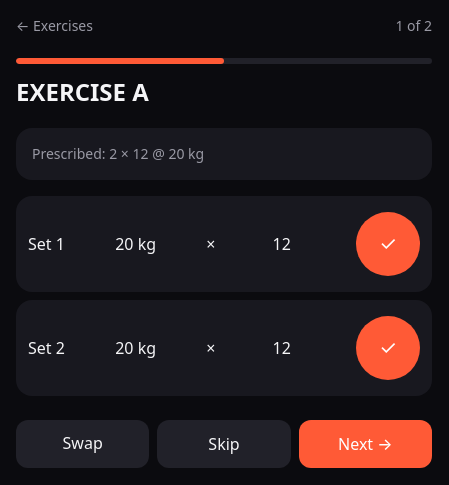
Test: SessionExercise — navigation › Skip logs all pending sets as skipped and advances to the next exercise in list order
The image size is (449, 485).
expect the element with test id "set-row-1" is shown: met, box [16,300,432,396]
Click the button "Skip". click: (224, 444)
box: [157,420,291,468]
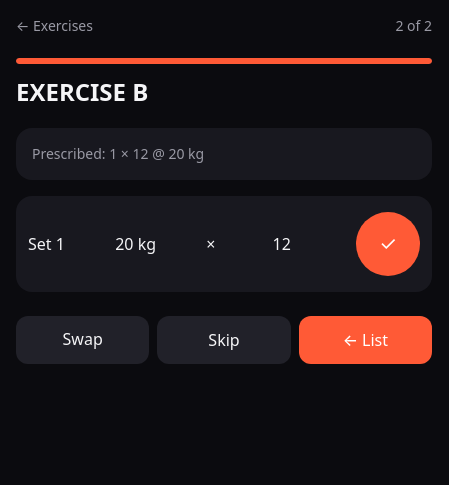
expect the heading "Exercise B" is shown: met, box [16,76,148,108]
expect the text "2 of 2" is shown: met, box [395,16,432,36]
